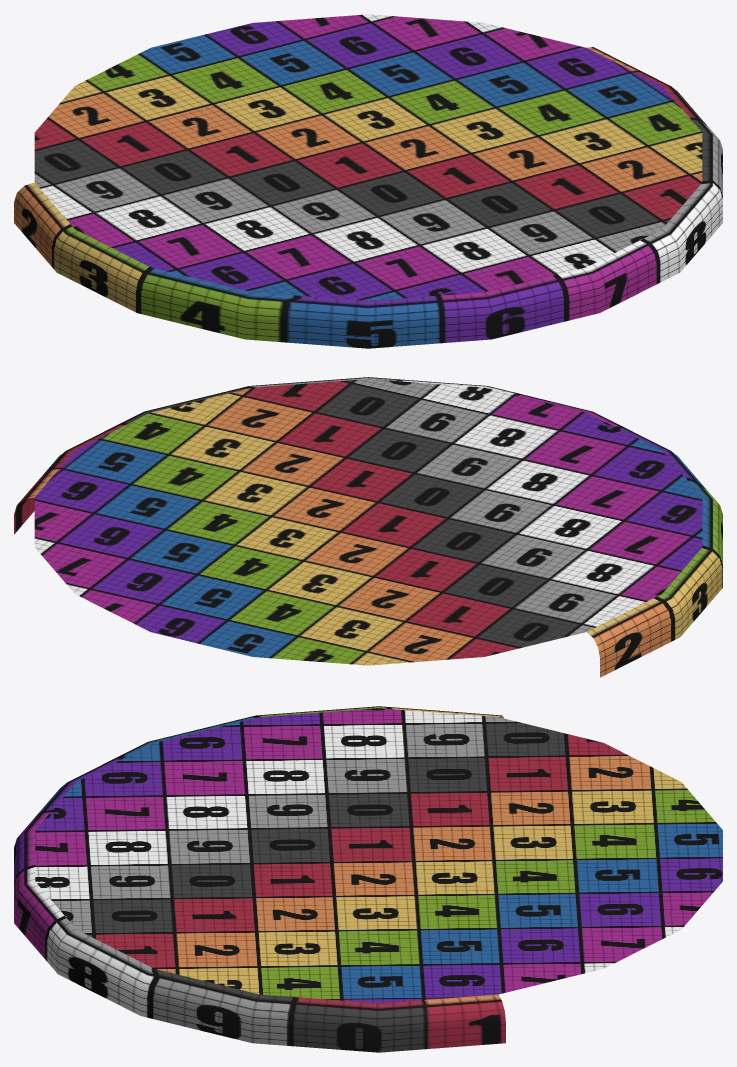
File: ArenaFloor.fbx
3 views of the same model, one above another, from view 1: azimuth 30°, elevation 25°; view 2: azimuth 150°, elevation 25°; view 3: azimuth 270°, elevation 25° (orthographic). The views are drawn at different scales.
Parts seen in each view (by area): view 1: Floor; view 2: Floor; view 3: Floor.
Boxes of the visible parts, x1,y1,x2,y2 form: Floor: (14,14,722,348); Floor: (14,377,722,677); Floor: (14,706,722,1052).
Bounding box in the file's own units: 289 × 17.27 × 276.
Materials: 1 (1 with a texture image).
